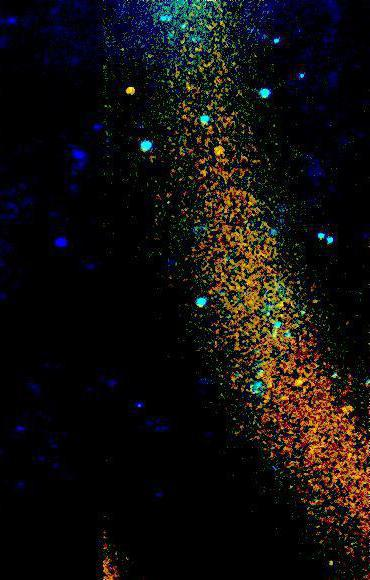star: (204, 127, 234, 157)
